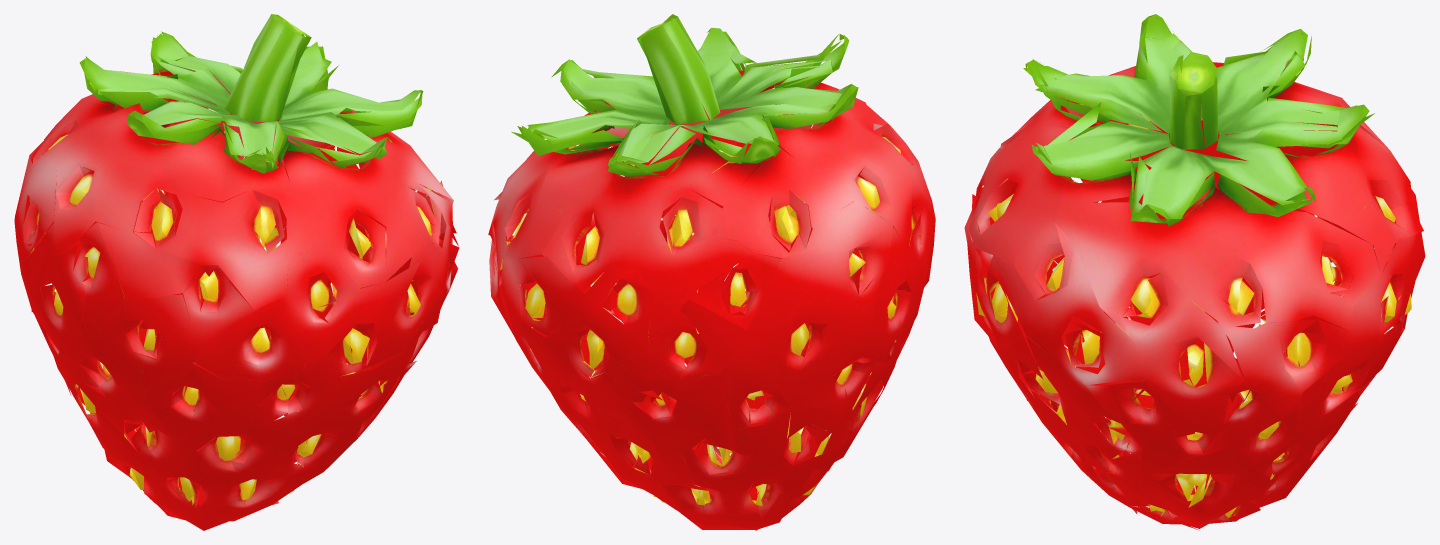
File: Strawberry.glb
3 views of the same model, side by side, from view 1: azimuth 30°, elevation 25°; view 2: azimuth 150°, elevation 25°; view 3: azimuth 270°, elevation 25° (orthographic). The views are drawn at different scales.
Parts seen in each view (by area): view 1: geometry_0; view 2: geometry_0; view 3: geometry_0.
Part boxes in pixels (x1,y1,x2,y2): geometry_0: [14, 14, 459, 530]; geometry_0: [488, 14, 935, 530]; geometry_0: [964, 14, 1425, 530].
Size of the model in its own units: 0.8149 by 1 by 0.829.
1 material, 1 textured.
